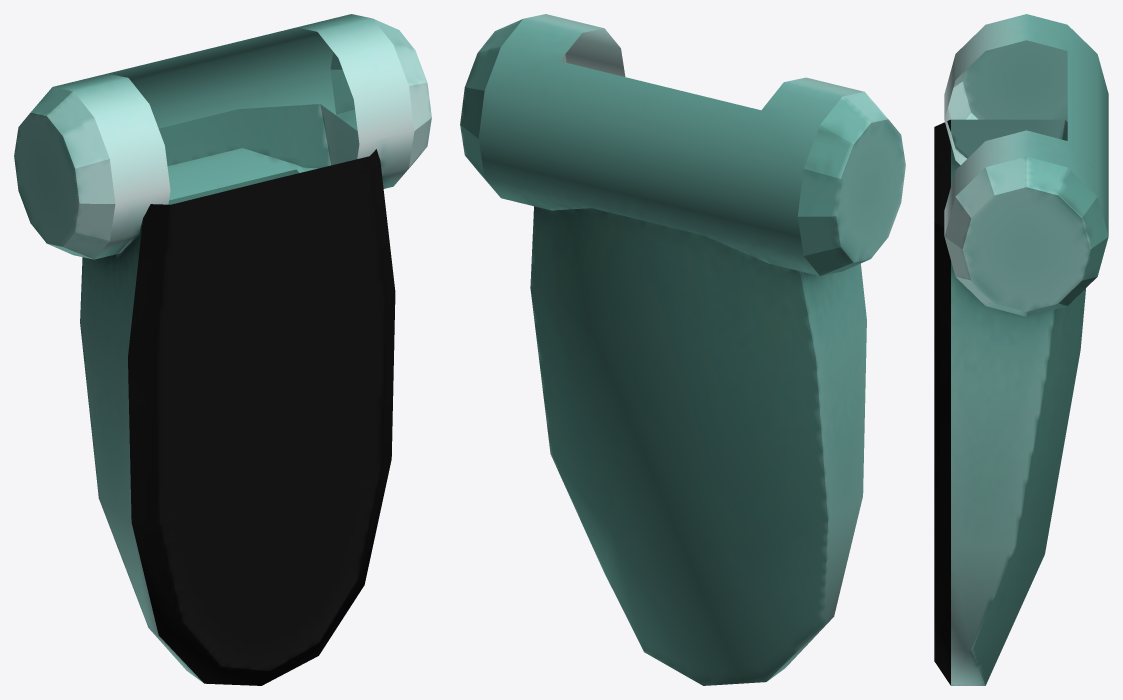
File: LowerHand_Right.obj
3 views of the same model, side by side, from view 1: azimuth 30°, elevation 25°; view 2: azimuth 150°, elevation 25°; view 3: azimuth 270°, elevation 25° (orthographic). The views are drawn at different scales.
Visible parts, largest first — view 1: LowerHand_Right; view 2: LowerHand_Right; view 3: LowerHand_Right.
Part boxes in pixels (bbox=[...]): LowerHand_Right: bbox=[14, 14, 431, 685]; LowerHand_Right: bbox=[460, 14, 905, 685]; LowerHand_Right: bbox=[934, 14, 1108, 685].
Size of the model in its own units: 0.072 by 0.1177 by 0.0316.
Materials: 1 (1 with a texture image).
